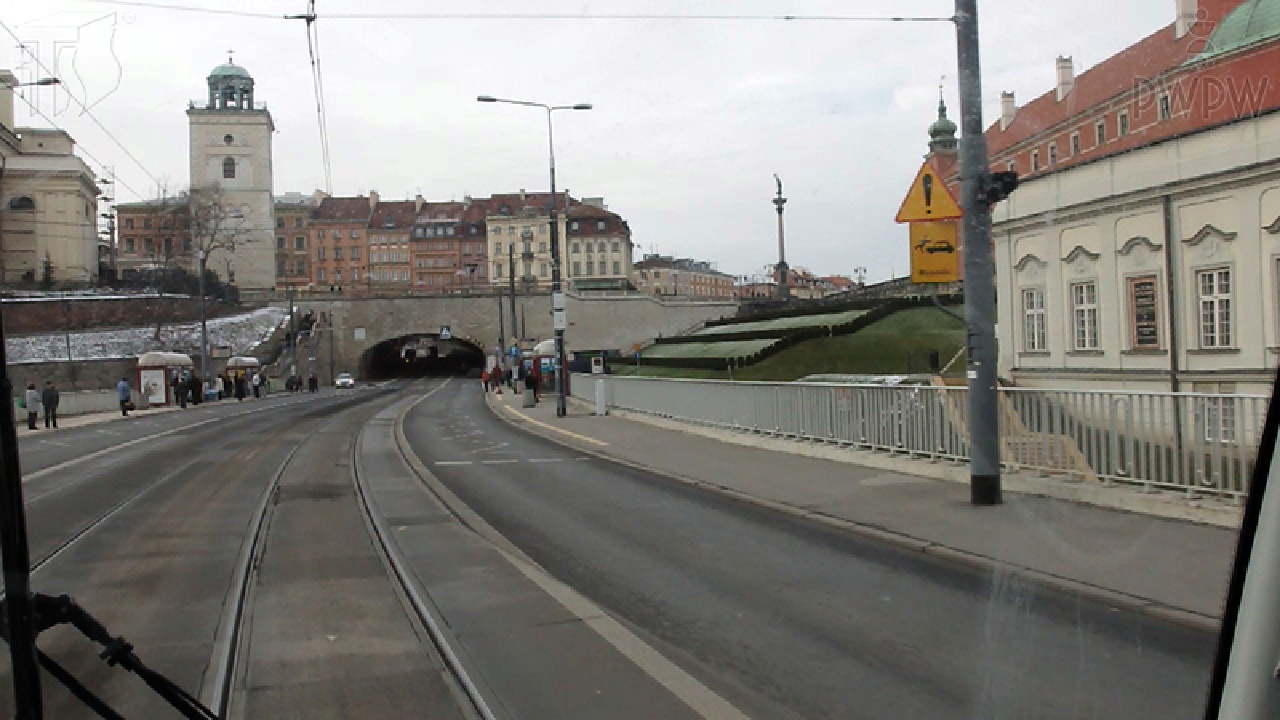A30: (894, 162, 965, 222)
